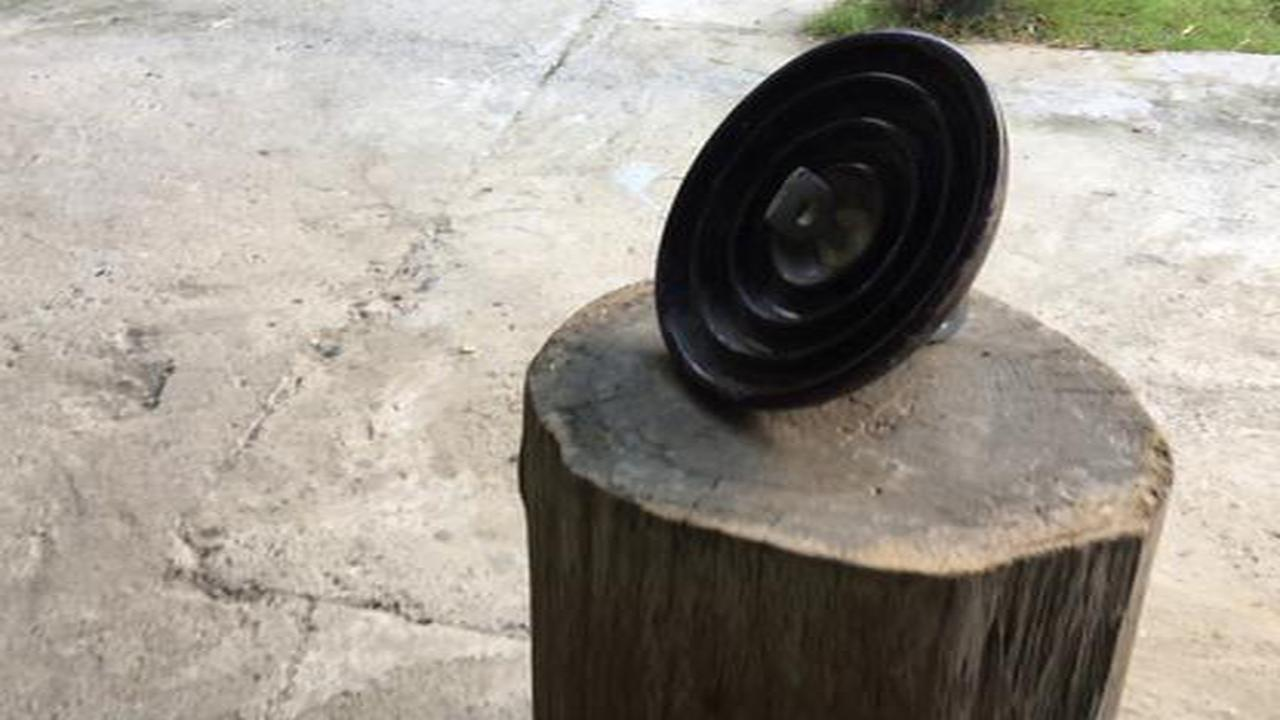insulator_disc: (648, 26, 1019, 429)
